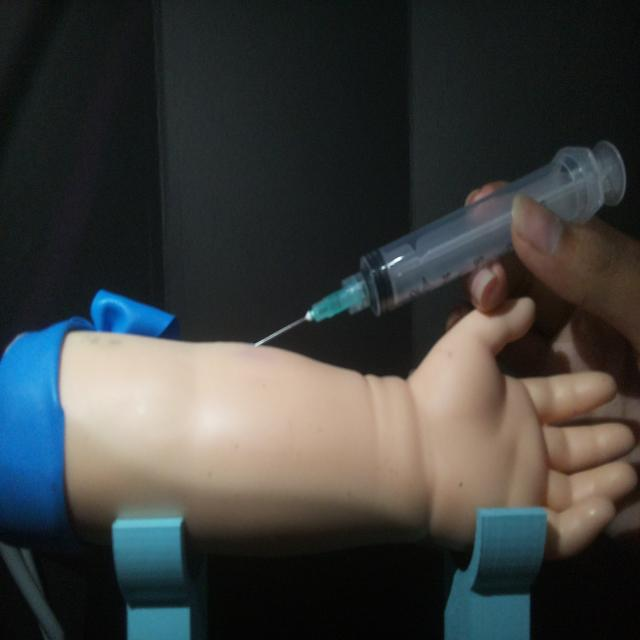25deg: (249, 134, 628, 352)
